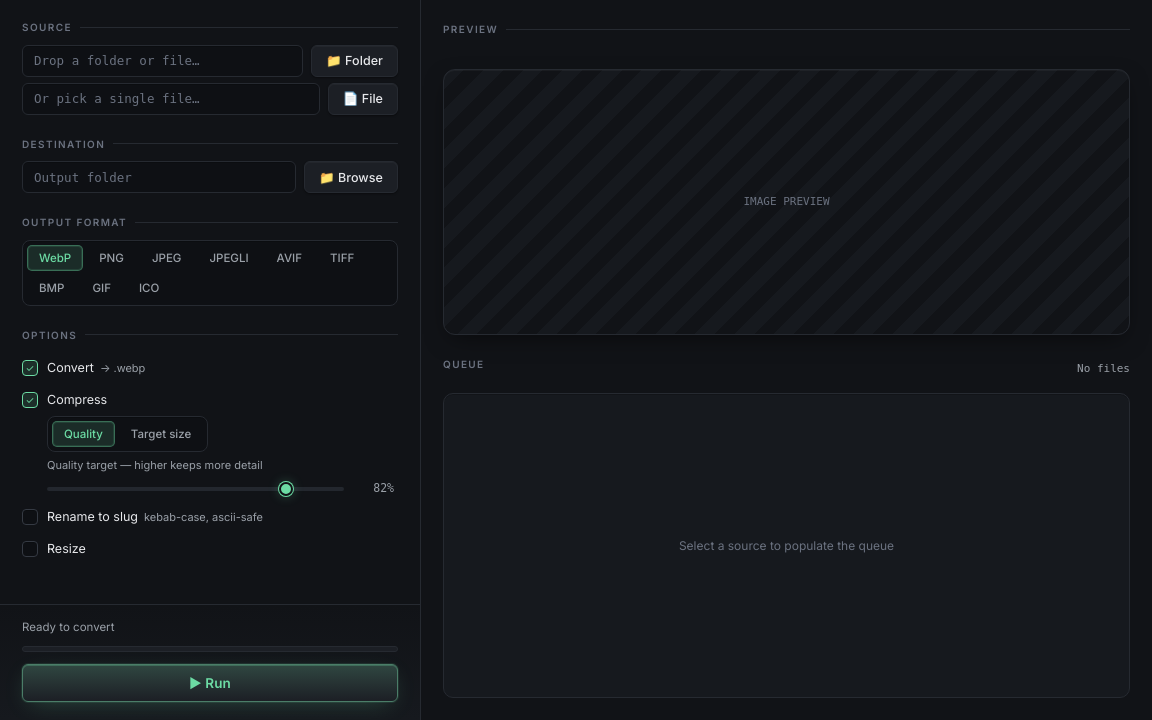
Test: ImageConverter › switches back to quality mode
Click the button "Target size": [161, 434] box [119, 421, 203, 447]
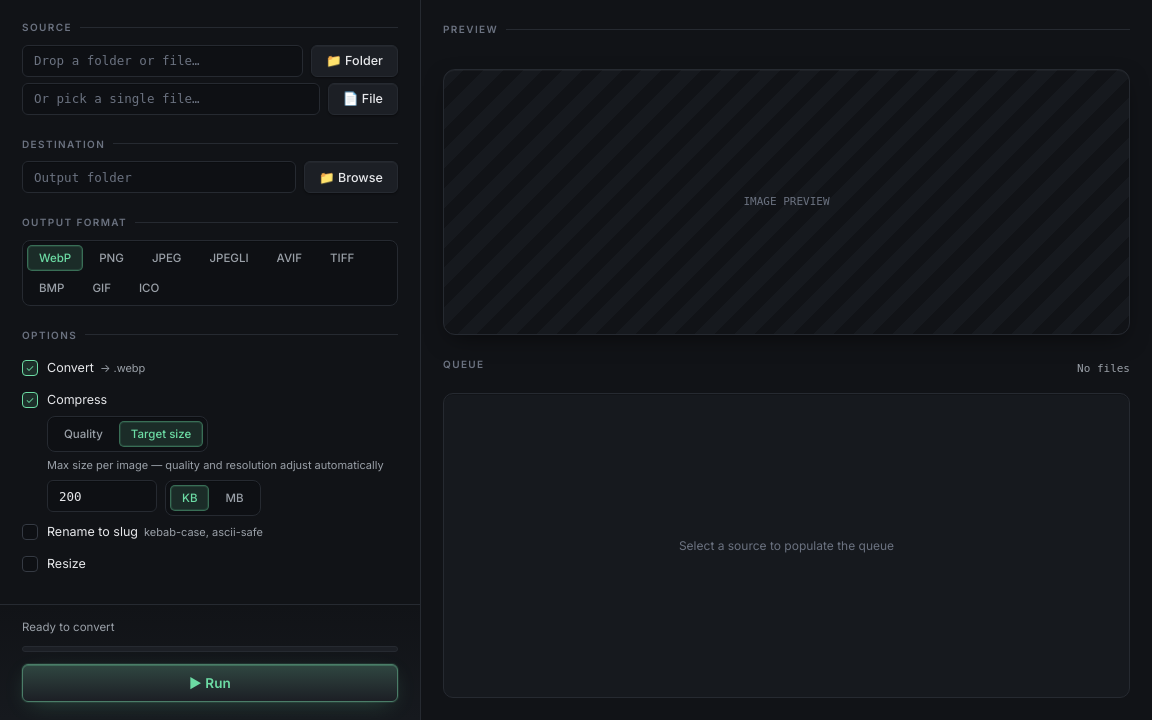
Click the button "Quality": [83, 434] box [52, 421, 115, 447]
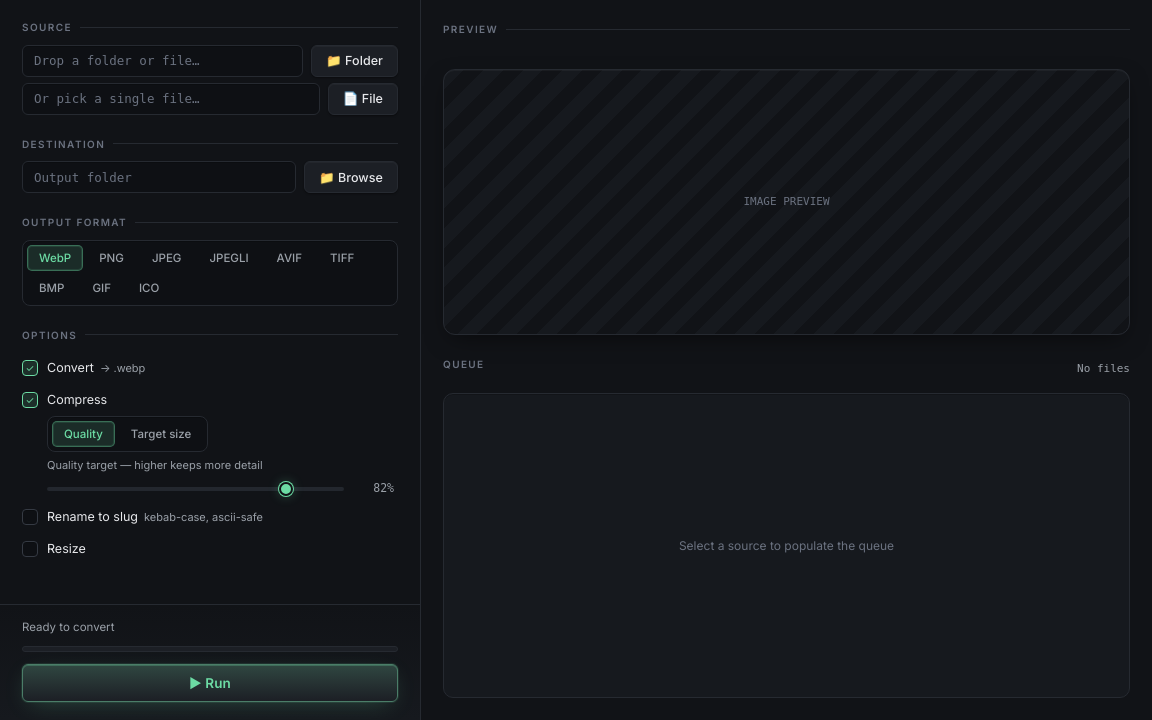
Expected: the text "Quality target — higher keeps more detail" is shown, [47, 458, 263, 472]
Expected: the text "Max size per image" is gone
